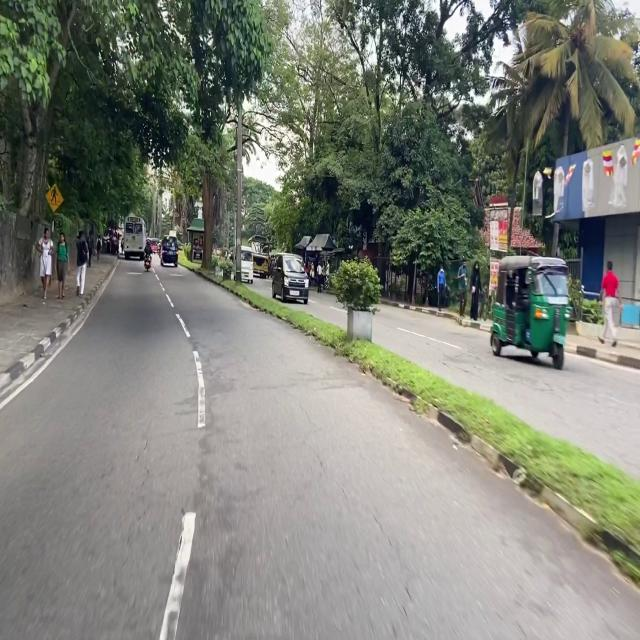bus: (248, 235, 270, 278), (124, 216, 145, 260)
car: (272, 253, 309, 304)
motorcycle: (144, 254, 151, 271)
person: (600, 260, 622, 347), (36, 227, 53, 300), (56, 232, 69, 299), (76, 231, 88, 297), (470, 263, 481, 320), (458, 261, 467, 317), (437, 265, 447, 311), (87, 230, 94, 267), (96, 235, 102, 262), (321, 260, 326, 290), (317, 263, 322, 293), (325, 261, 330, 290), (144, 240, 151, 257), (310, 264, 314, 286)
three wheeler: (491, 256, 569, 369)
van: (160, 236, 177, 267), (241, 246, 253, 283)
